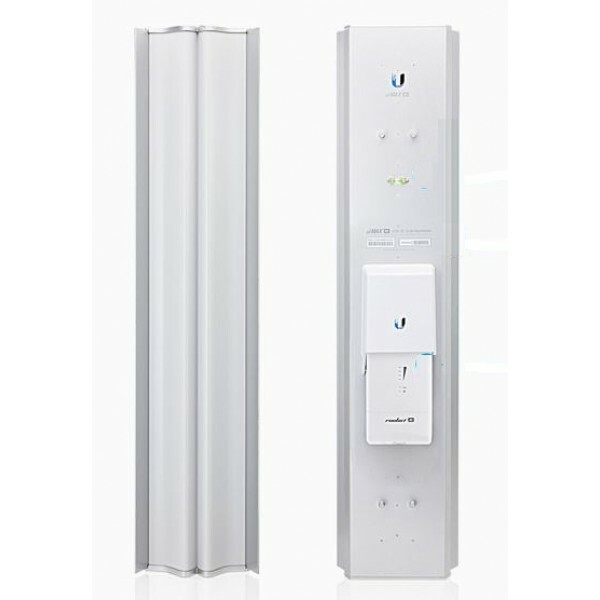sa: (315, 14, 478, 591), (128, 12, 280, 586)
